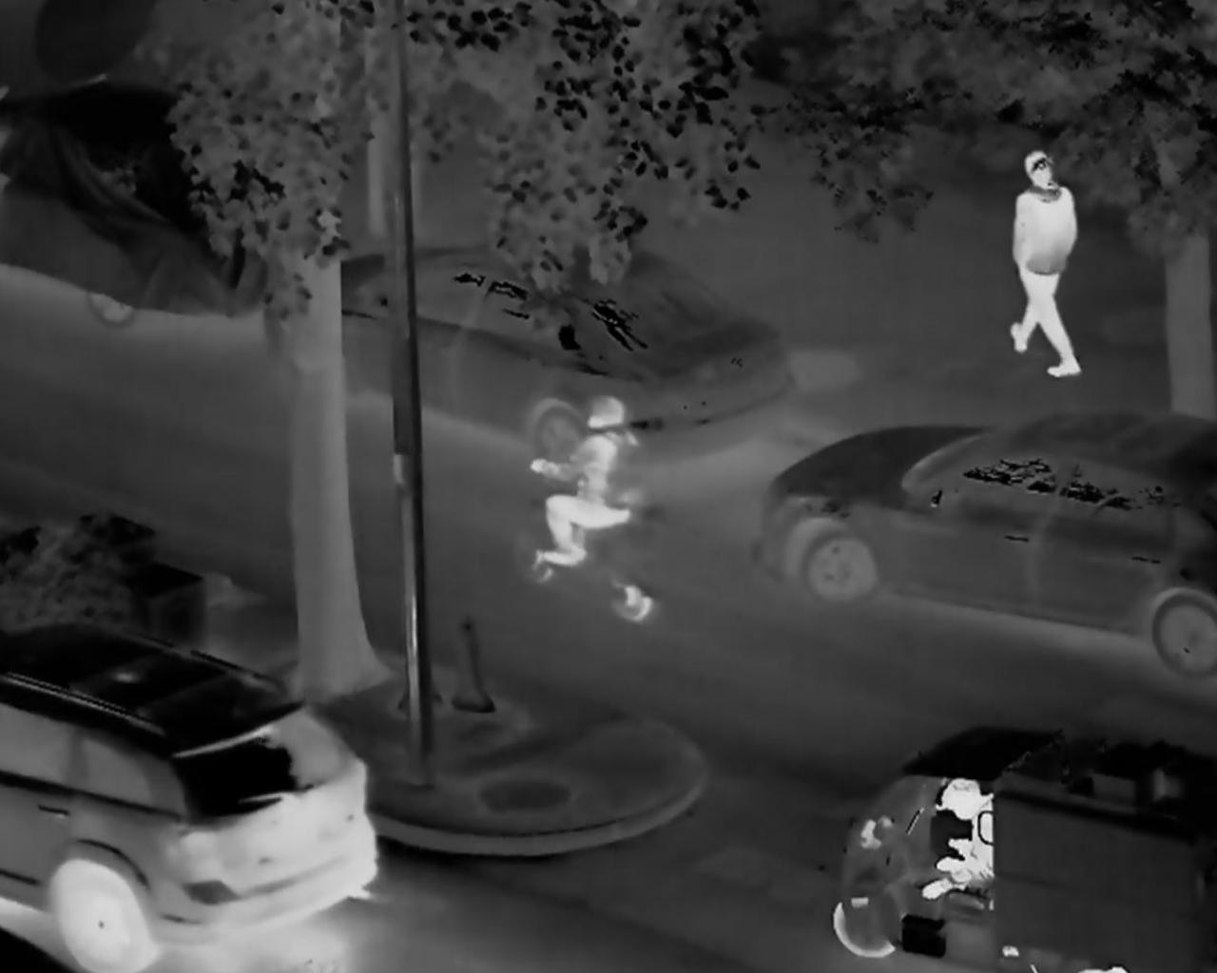person: (512, 380, 644, 596), (977, 152, 1089, 402), (917, 773, 1006, 920)
